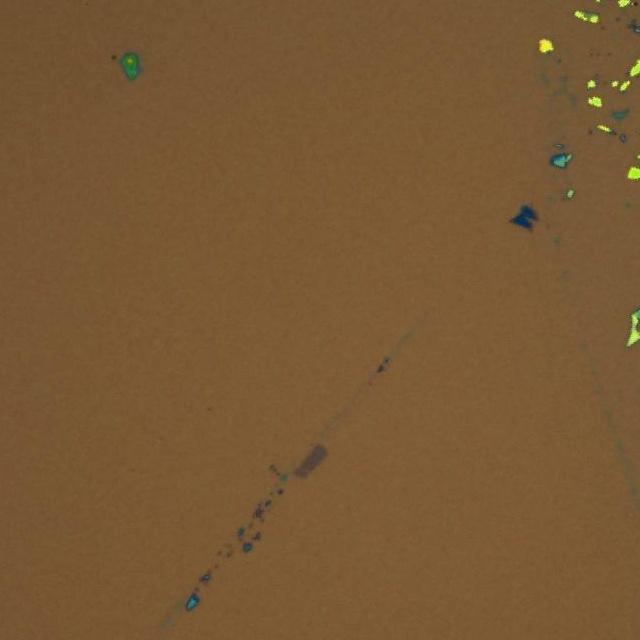monolayer-eWW4: (294, 442, 328, 481)
